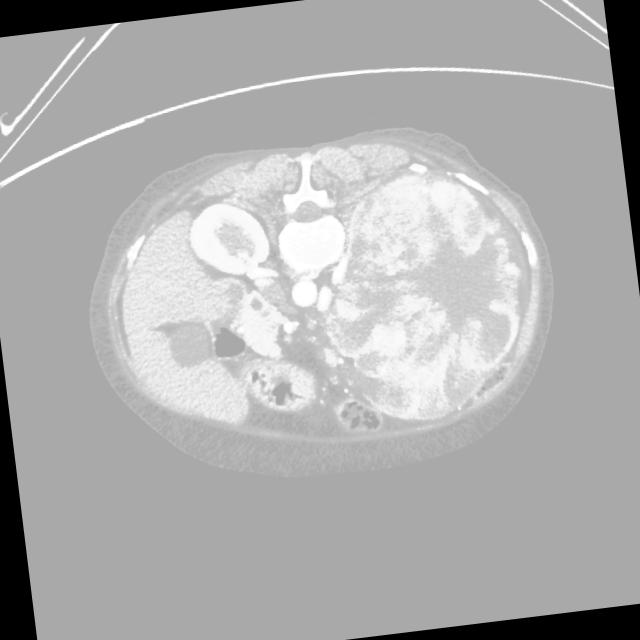TUMOR: (76, 210, 326, 434)
